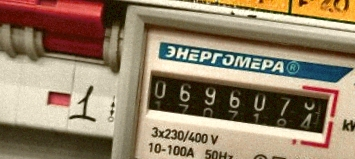0: (250, 89, 268, 113), (150, 77, 167, 100)
4: (297, 109, 313, 132)
6: (175, 80, 192, 103), (225, 87, 242, 109)
7: (274, 95, 292, 118)
9: (200, 83, 216, 106)
screen: (131, 58, 343, 147)
